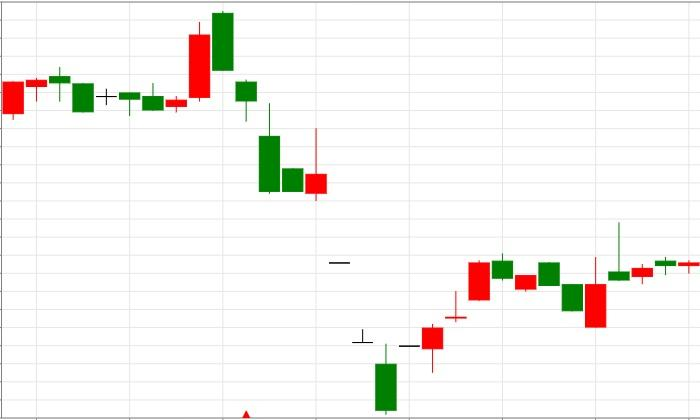inverse_hammer_rise: (212, 10, 327, 201)
